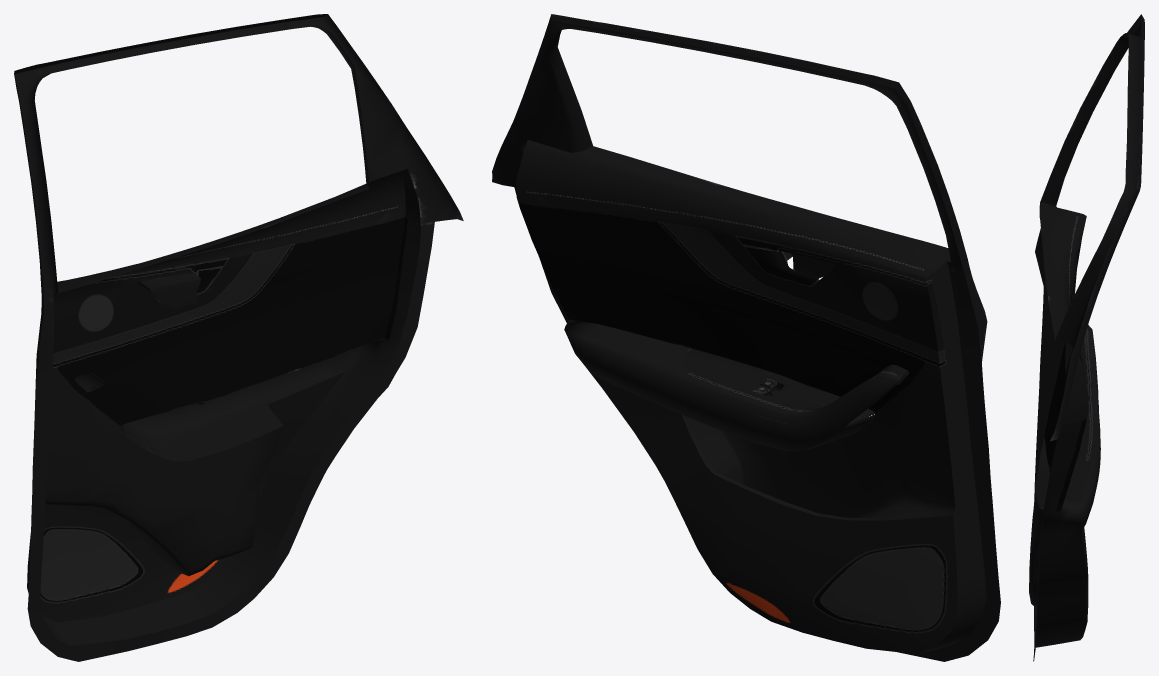
Rendered from SM_Car_MenLb.FBX.
3 renders of one model, left to right at view 1: azimuth 30°, elevation 25°; view 2: azimuth 150°, elevation 25°; view 3: azimuth 270°, elevation 25°, orthographic. The views are drawn at different scales.
Parts seen in each view (by area): view 1: chemen_02; view 2: chemen_02; view 3: chemen_02.
Part boxes in pixels (x1=…): chemen_02: x1=14, y1=14, x2=463, y2=661; chemen_02: x1=492, y1=14, x2=1000, y2=661; chemen_02: x1=1029, y1=14, x2=1144, y2=661.
Bounding box in the file's own units: 94.59 × 114 × 20.76.
